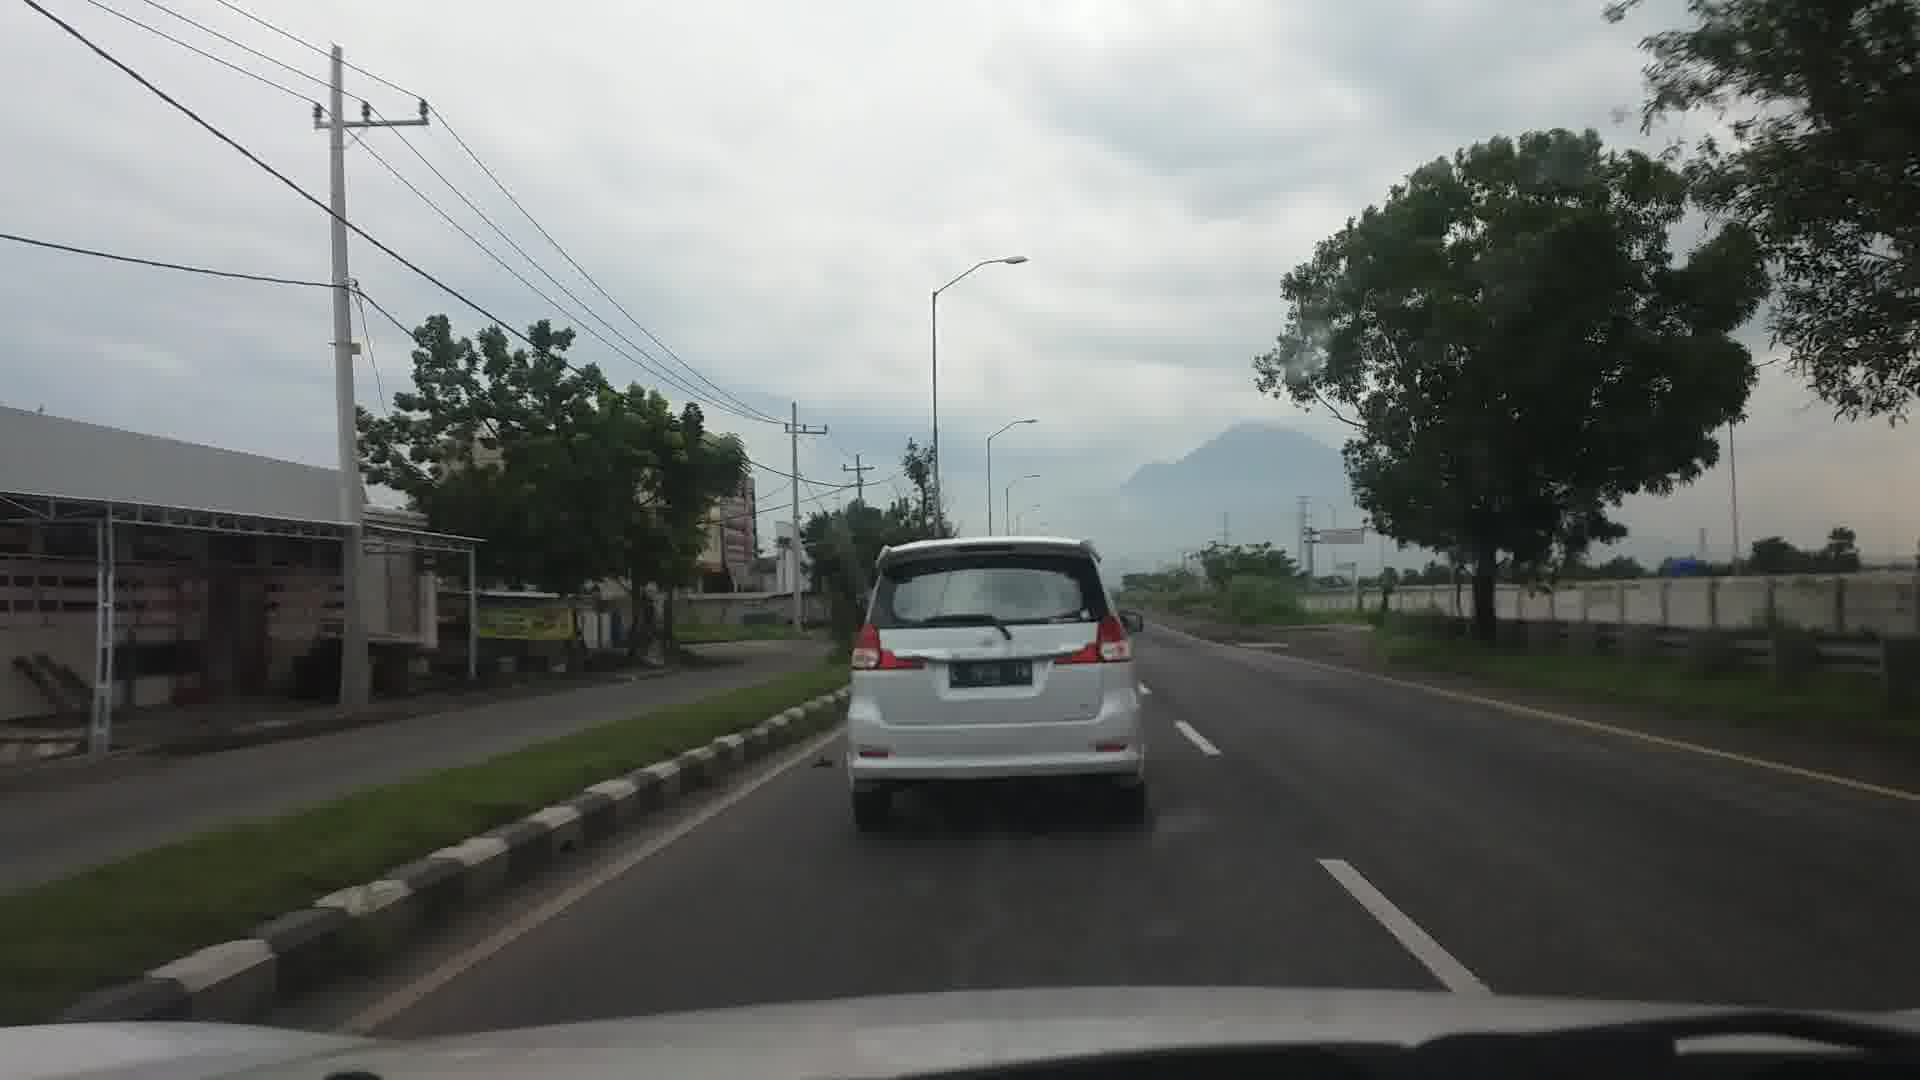plate_positive: (949, 661, 1033, 688)
